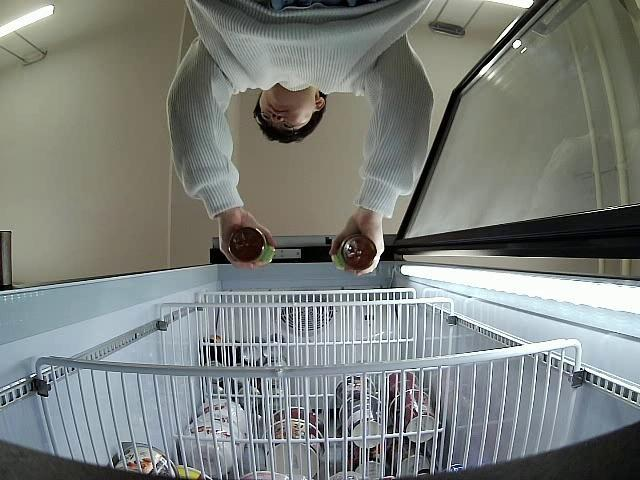19_17cha: (229, 228, 274, 267), (332, 235, 377, 272)
